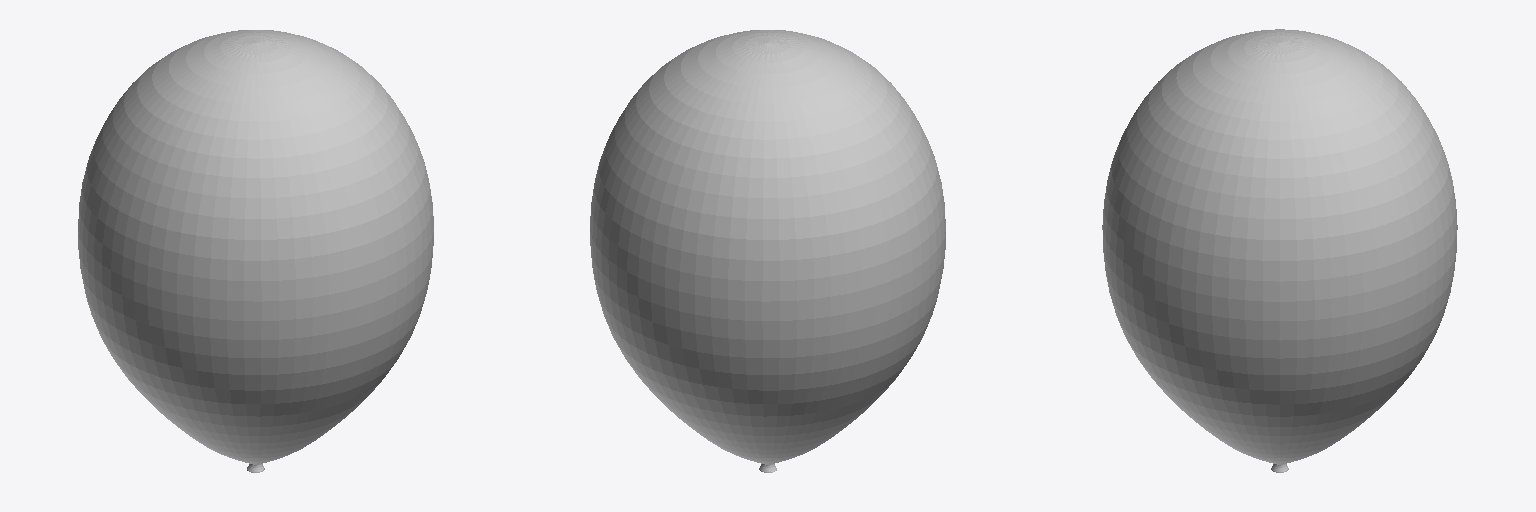
File: Globo8.obj
3 views of the same model, side by side, from view 1: azimuth 30°, elevation 25°; view 2: azimuth 150°, elevation 25°; view 3: azimuth 270°, elevation 25° (orthographic).
Visible parts, largest first — view 1: Sphere.015; view 2: Sphere.015; view 3: Sphere.015.
Boxes of the visible parts, x1,y1,x2,y2 form: Sphere.015: [78, 30, 433, 472]; Sphere.015: [590, 30, 945, 472]; Sphere.015: [1102, 29, 1457, 472].
Bounding box in the file's own units: 0.5211 × 0.688 × 0.519.